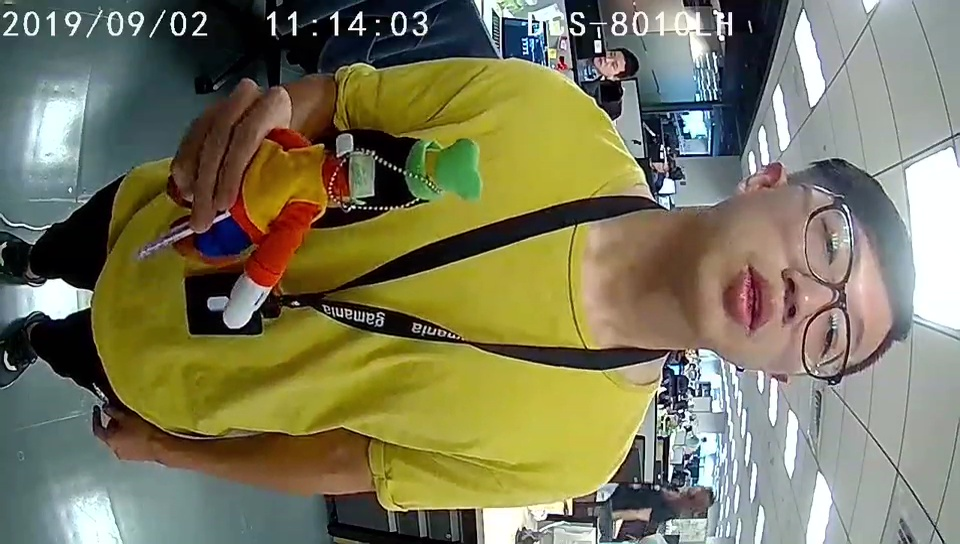goofy: (230, 127, 480, 330)
